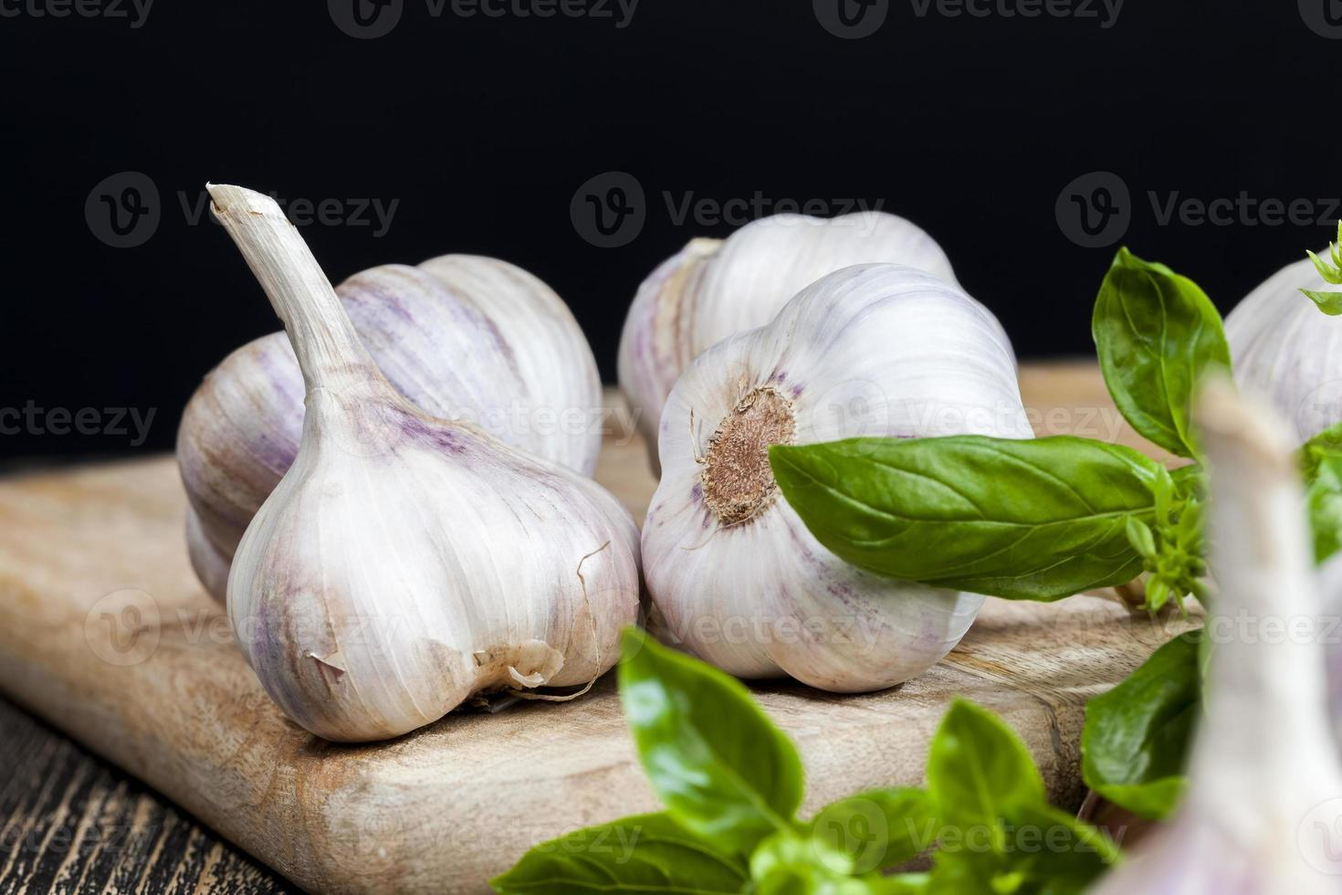garlic: (49, 81, 1173, 744)
